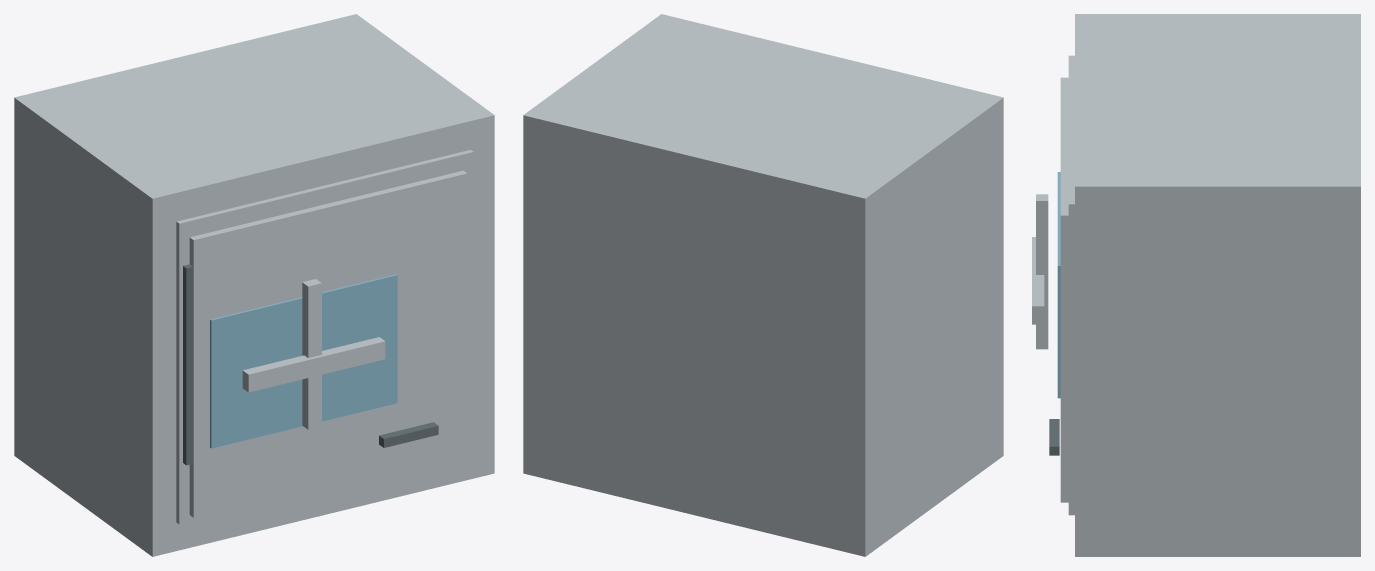
The model's file is cnc_mill.glb.
3 views of the same model, side by side, from view 1: azimuth 30°, elevation 25°; view 2: azimuth 150°, elevation 25°; view 3: azimuth 270°, elevation 25° (orthographic). The views are drawn at different scales.
Size of the model in its own units: 1 by 1 by 0.805.
